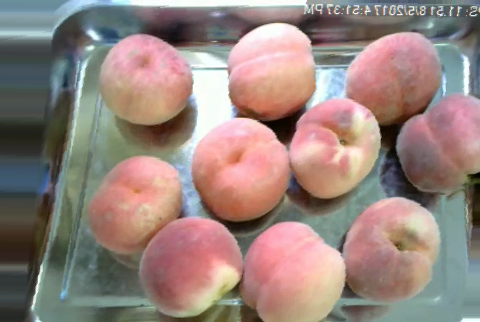Peach: (138, 218, 246, 319), (341, 195, 442, 302), (240, 221, 343, 321), (191, 117, 289, 220), (287, 94, 382, 198), (84, 155, 179, 255), (224, 20, 317, 119), (345, 30, 442, 122), (98, 32, 194, 124), (398, 95, 479, 194)
